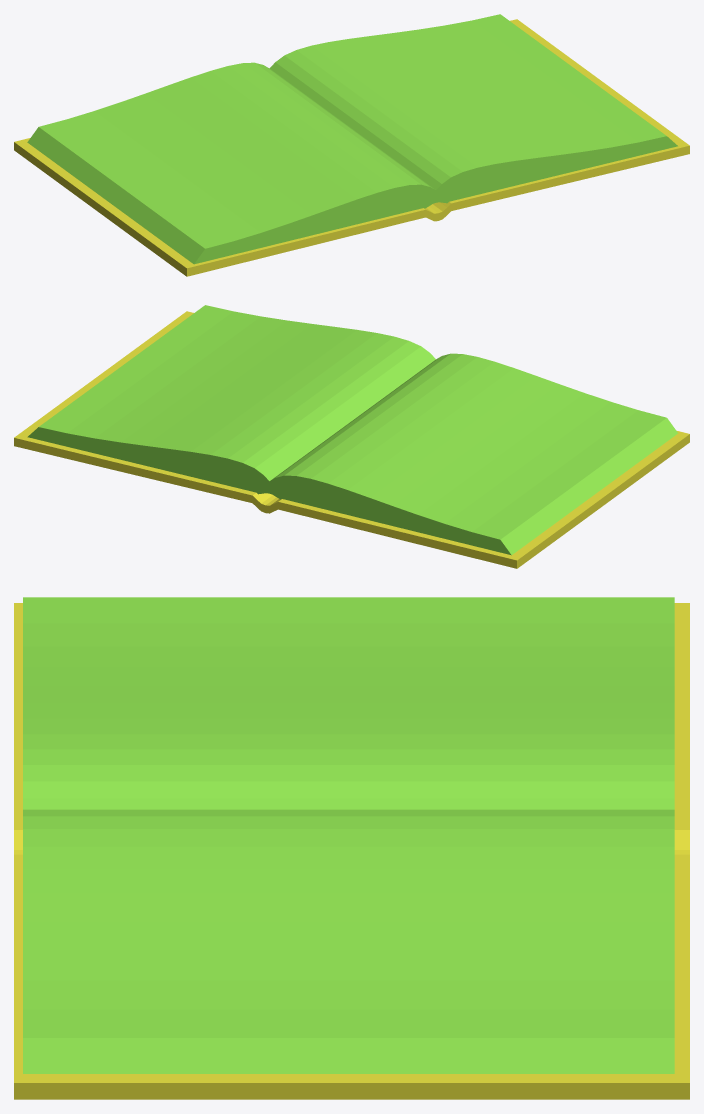
File: Book.fbx
3 renders of one model, top to bottom at view 1: azimuth 30°, elevation 25°; view 2: azimuth 150°, elevation 25°; view 3: azimuth 270°, elevation 25°, orthographic. The views are drawn at different scales.
Visible parts, largest first — view 1: BezierCurve.001; view 2: BezierCurve.001; view 3: BezierCurve.001.
Boxes of the visible parts, x1,y1,x2,y2 form: BezierCurve.001: [14, 14, 689, 276]; BezierCurve.001: [14, 305, 689, 568]; BezierCurve.001: [14, 597, 689, 1099].
Bounding box in the file's own units: 436 × 34.4 × 259.
